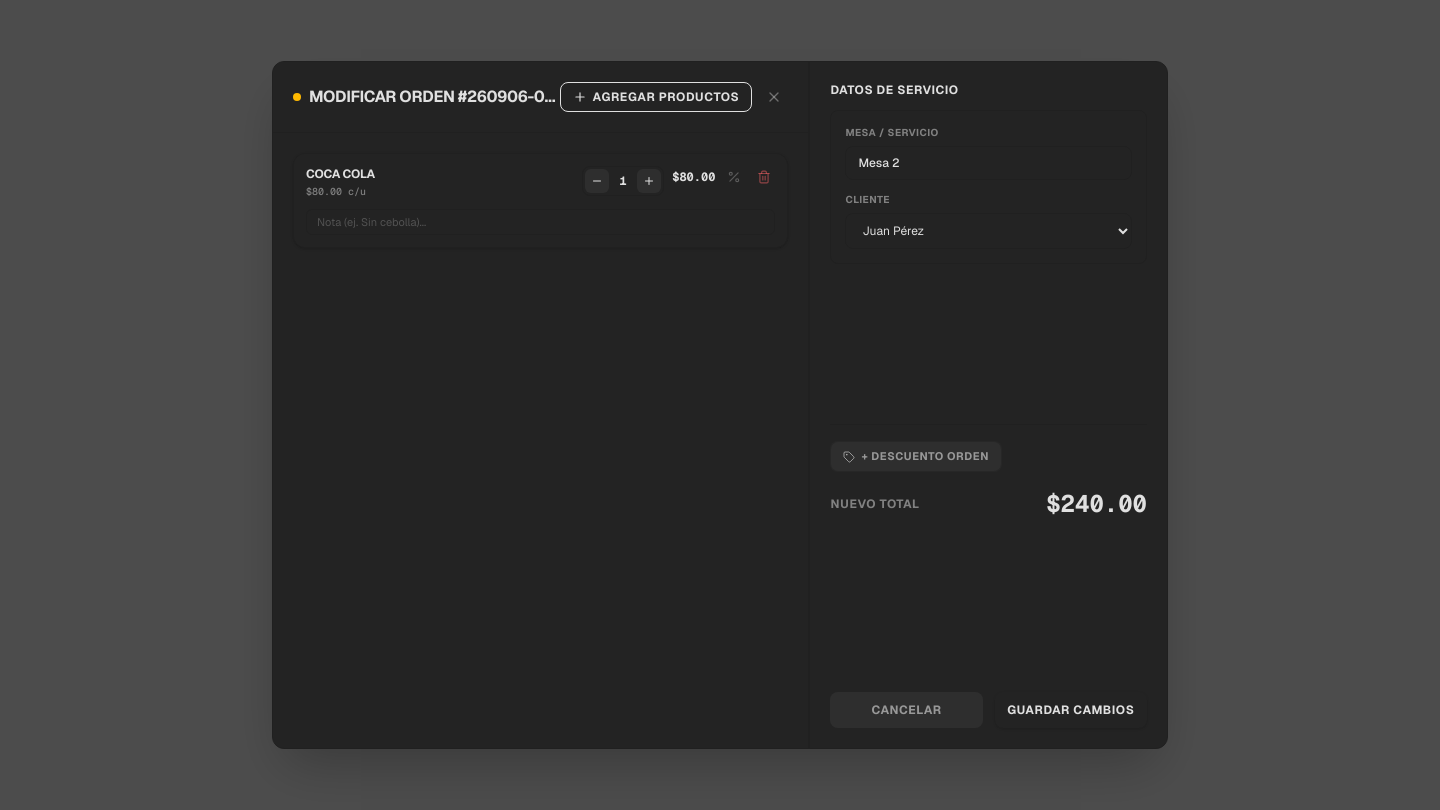
Test: POSModifyOrderModal Component › can close the manager auth modal without authorizing
Click the button "Guardar Cambios".
click(1071, 710)  # box [995,692,1147,728]
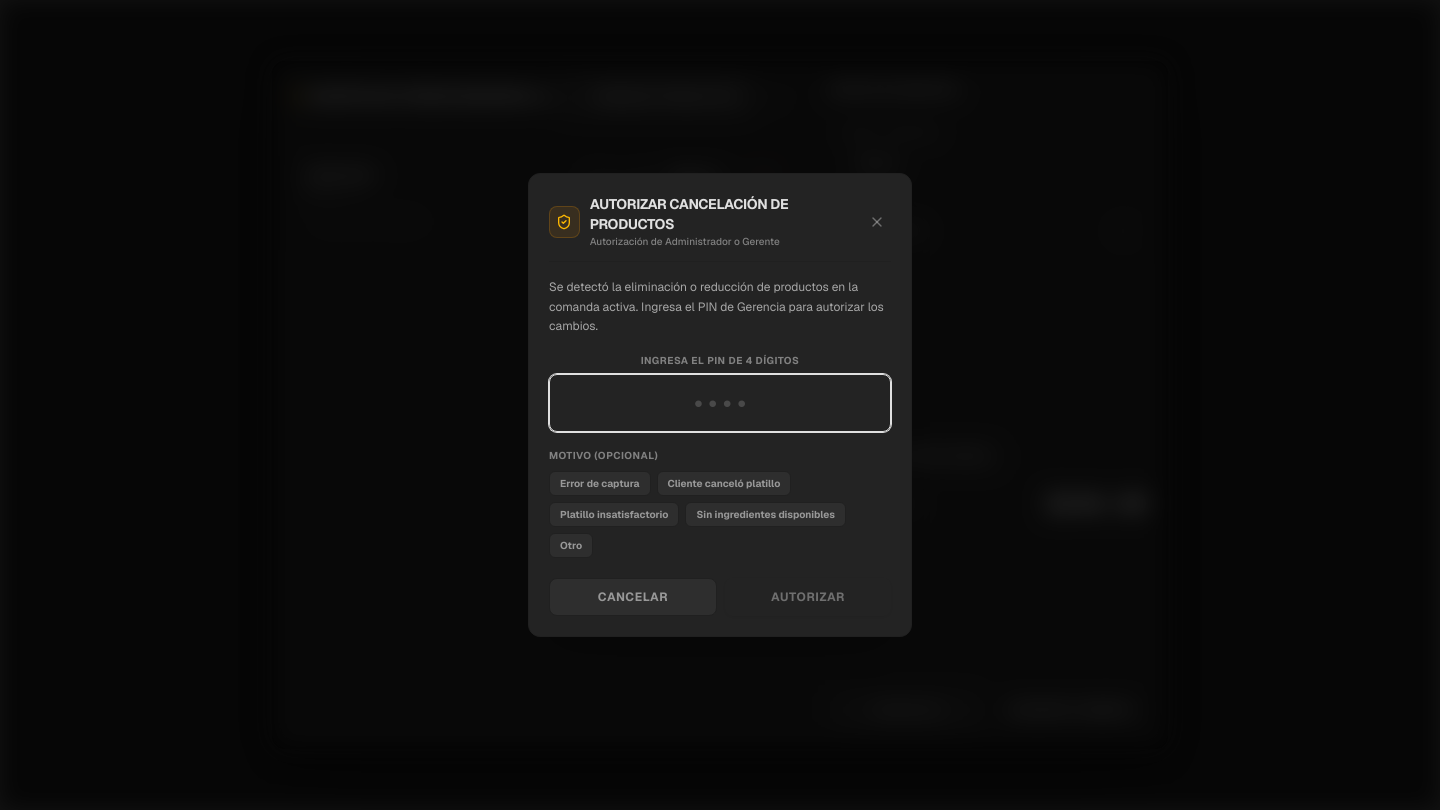
Check: the text "Autorizar Cancelación de Productos" is shown, box [590,195,788,233]
Click the button named "Cerrar".
click(877, 222)  # box [863,208,891,236]
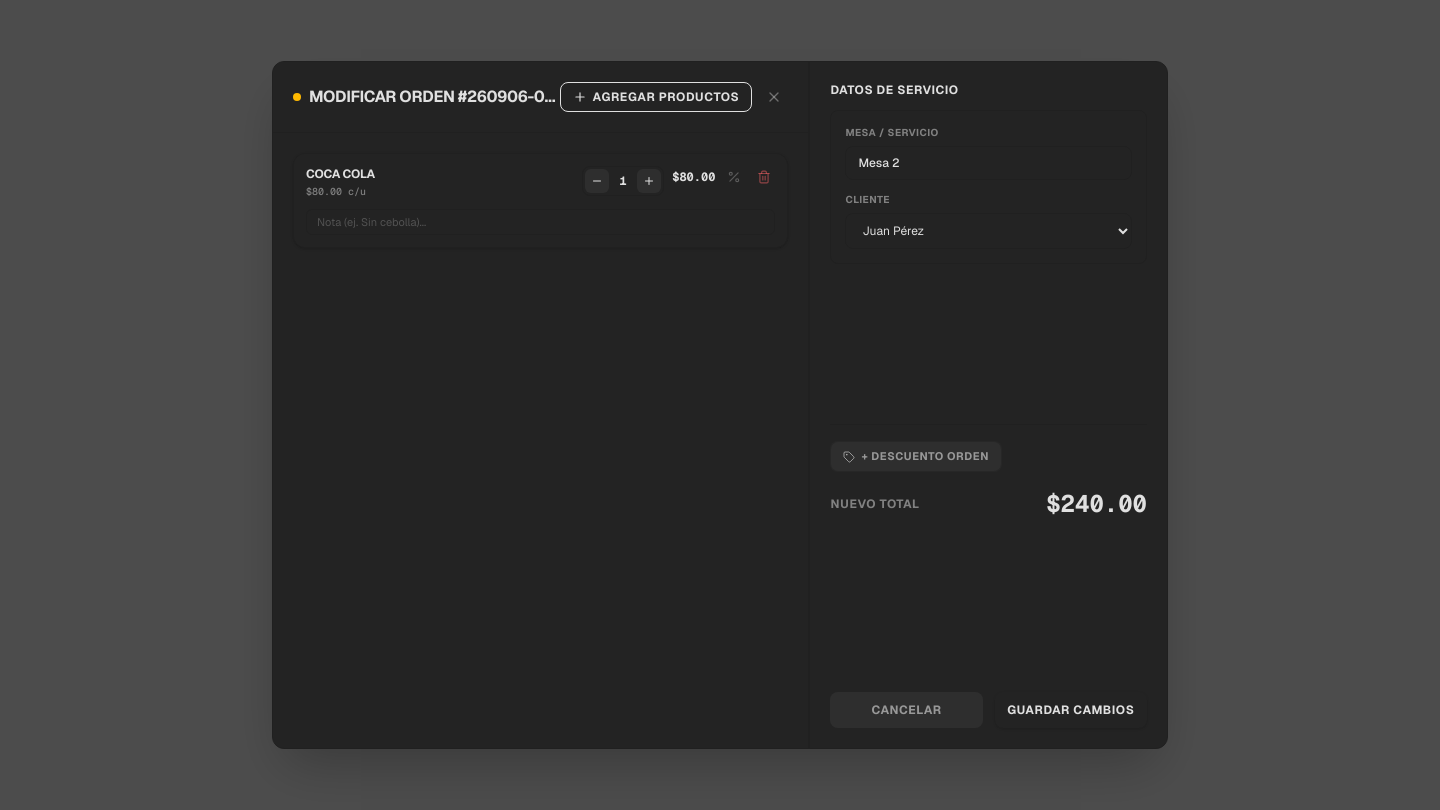
Check: the heading "Autorizar Cancelación de Productos" is gone
